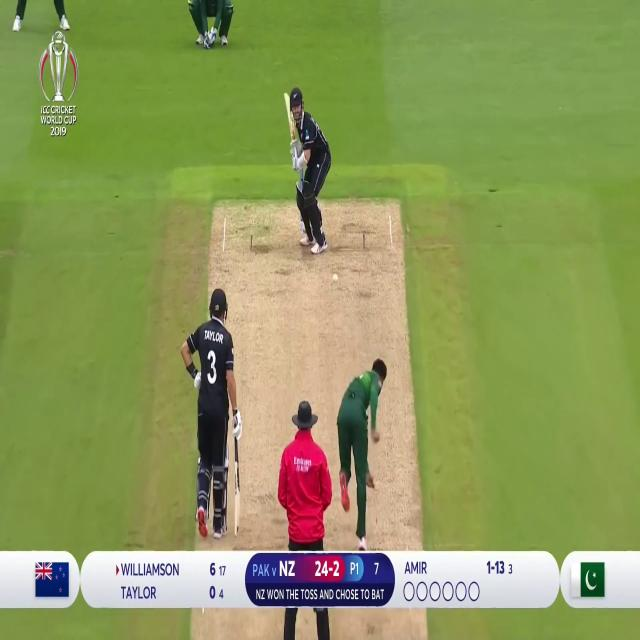bat: (232, 460, 242, 538), (280, 93, 296, 141)
